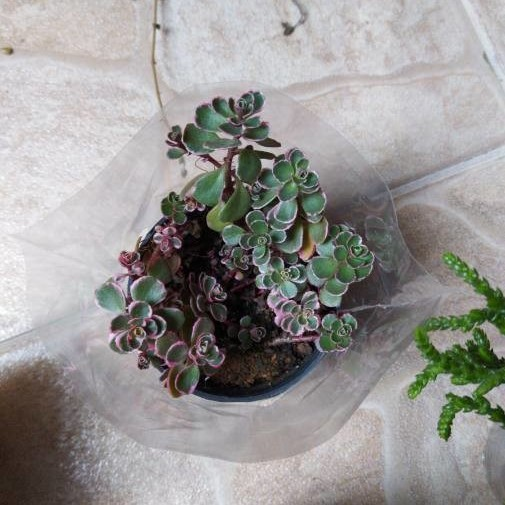obstacle: (87, 87, 413, 414)
